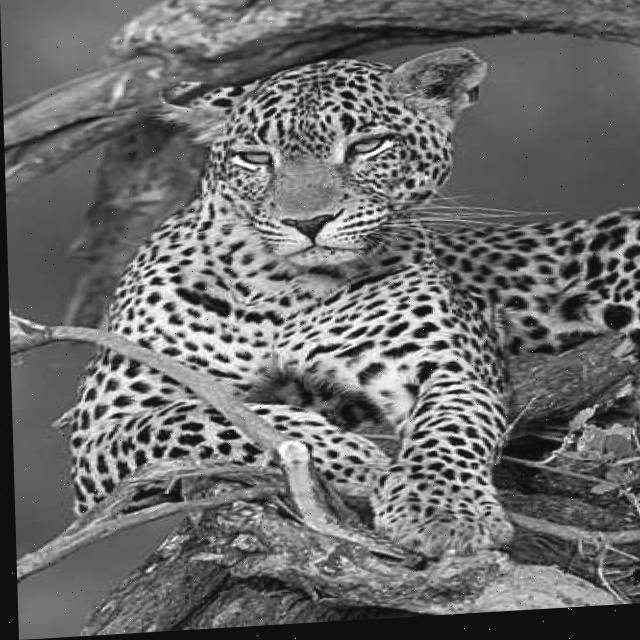Leopard: (41, 34, 640, 583)
